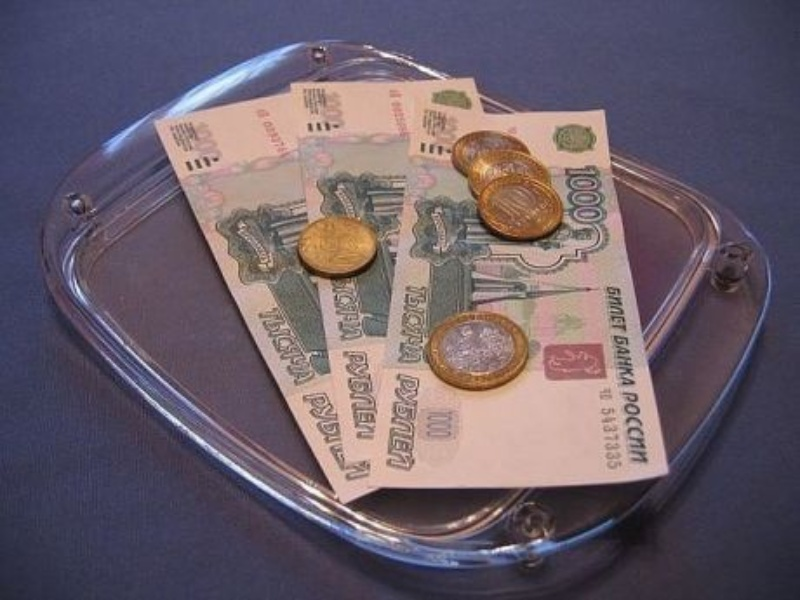cash: (155, 77, 670, 501)
